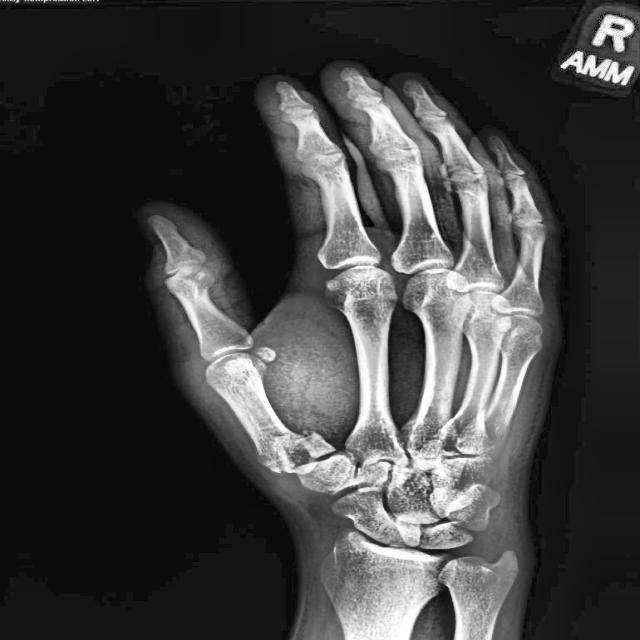fracture: (283, 431, 340, 474)
